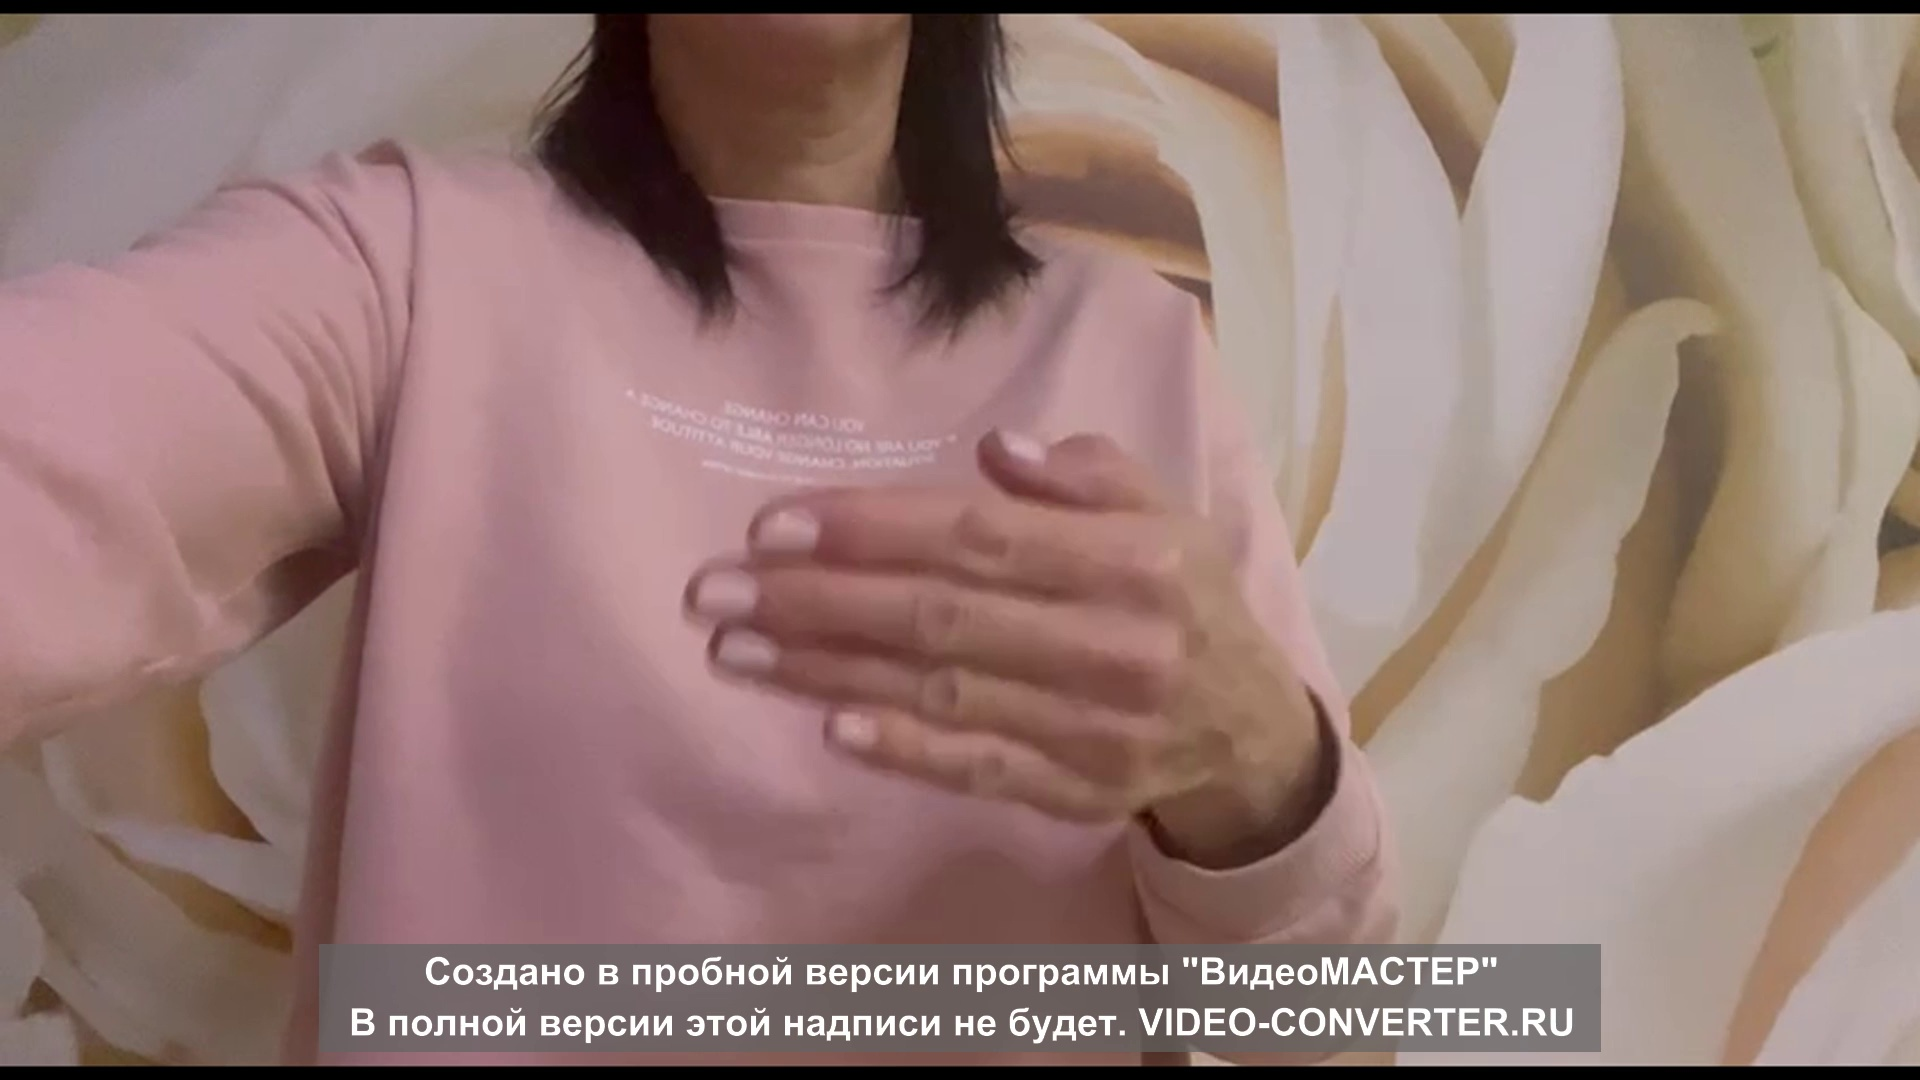Кисть: (678, 425, 1251, 822)
